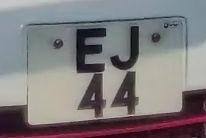4: (105, 68, 152, 115), (72, 71, 111, 119)
E: (68, 22, 107, 75)
J: (107, 20, 146, 76)
